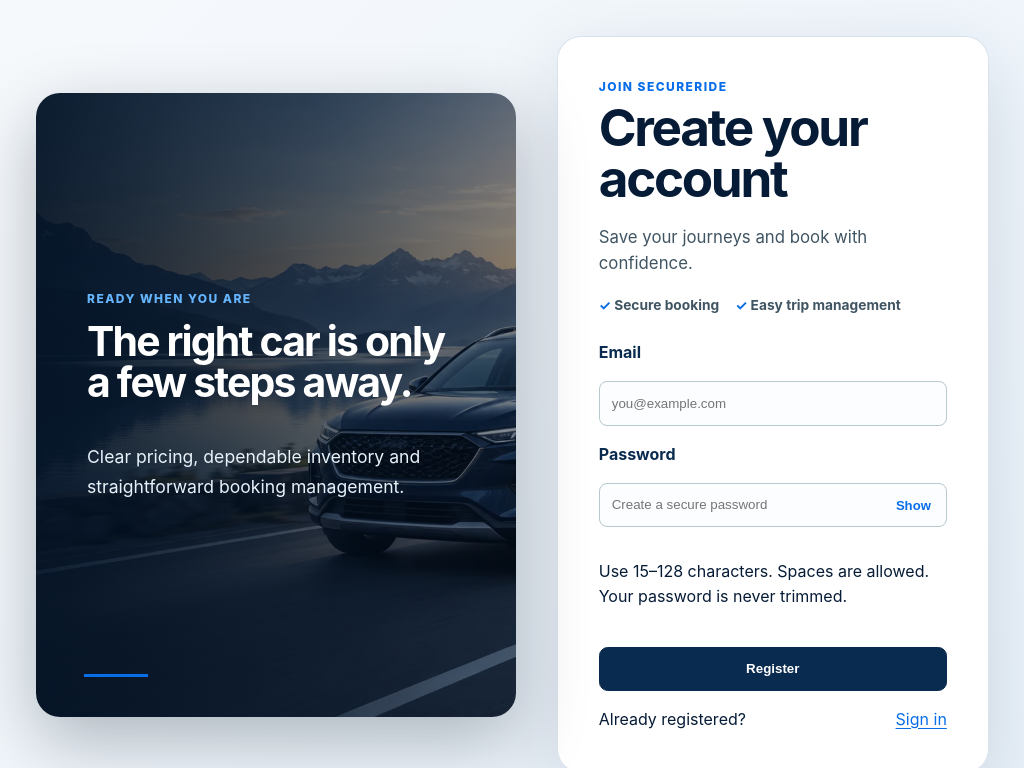
Test: minimal authentication pages › registers and directs the user to login
The width and height of the screenshot is (1024, 768).
Step 1. Type "customer@example.invalid" into the field labelled "Email" → (773, 403), box [599, 381, 947, 426]
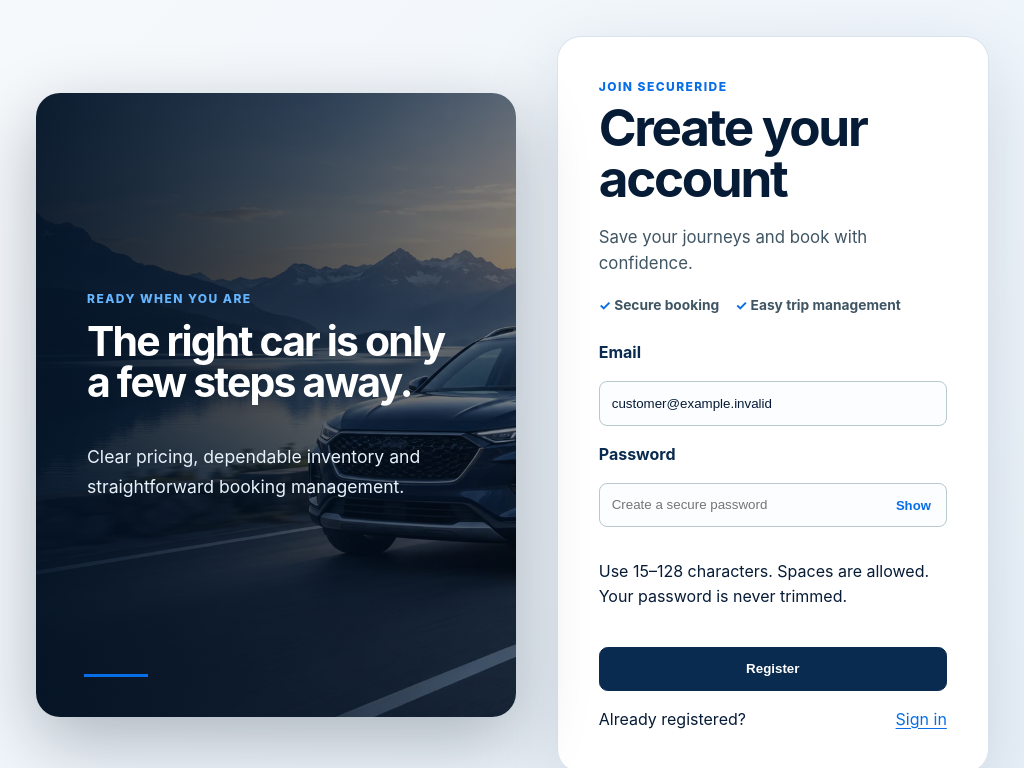
Step 2. Type "a synthetic long passphrase" into the password field labelled "Password" → (773, 505), box [599, 482, 947, 527]
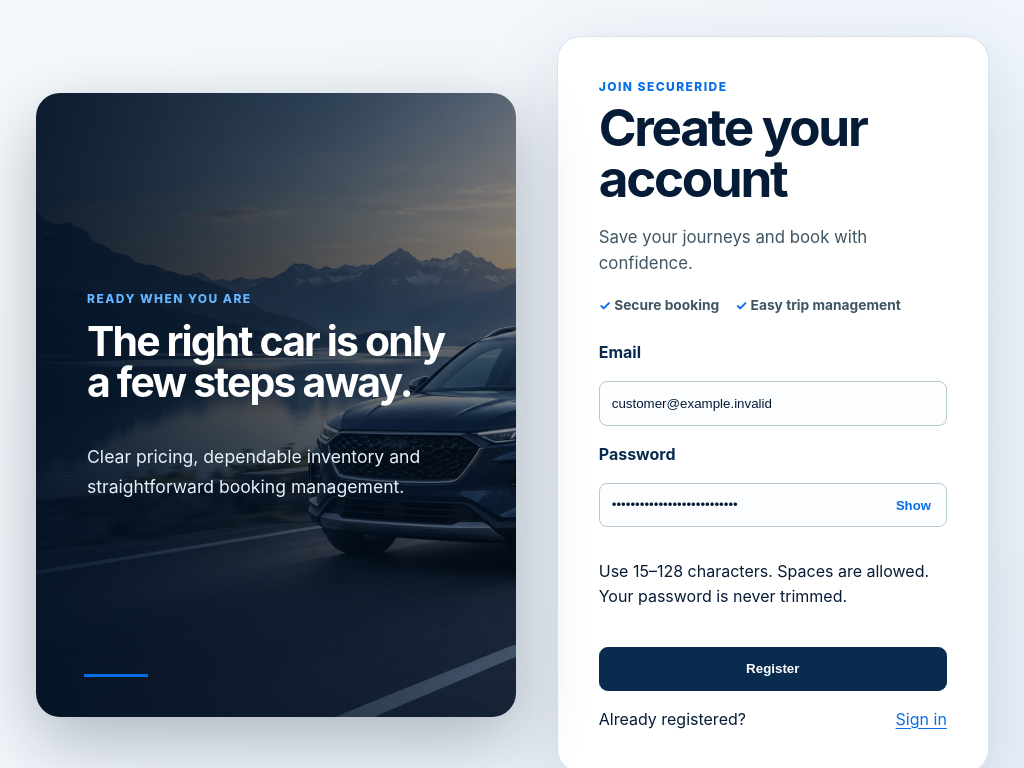
Step 3. Click the button "Register" → (773, 668), box [599, 646, 947, 690]
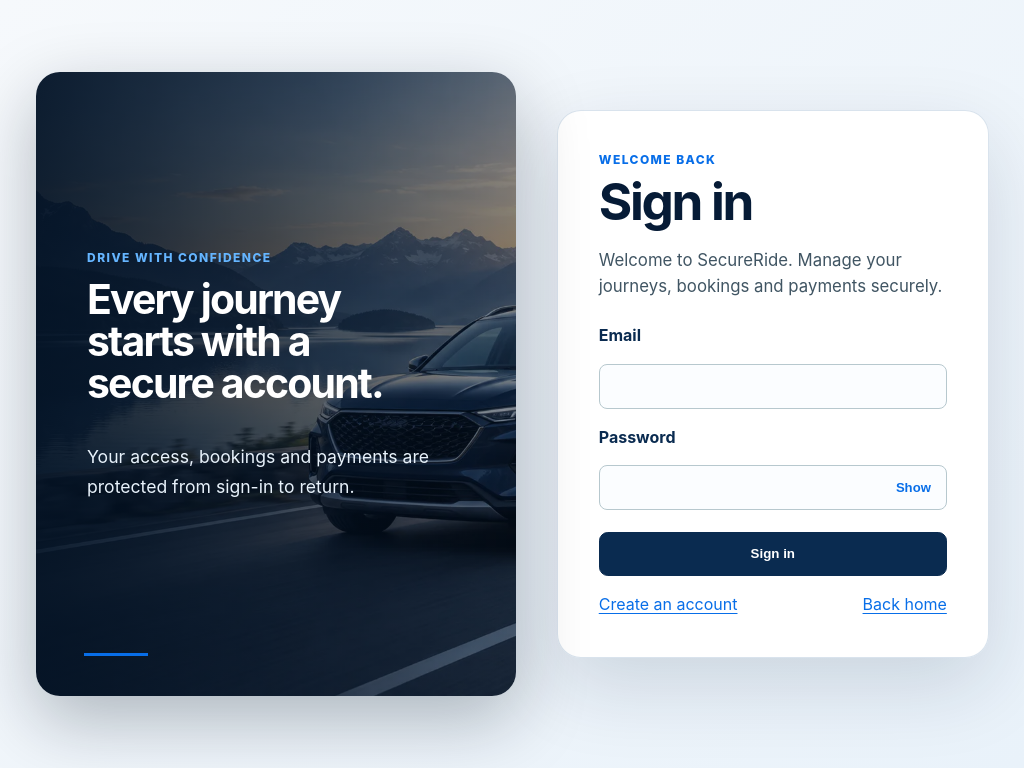
Check: the heading "Sign in" is shown, box [599, 170, 752, 232]
